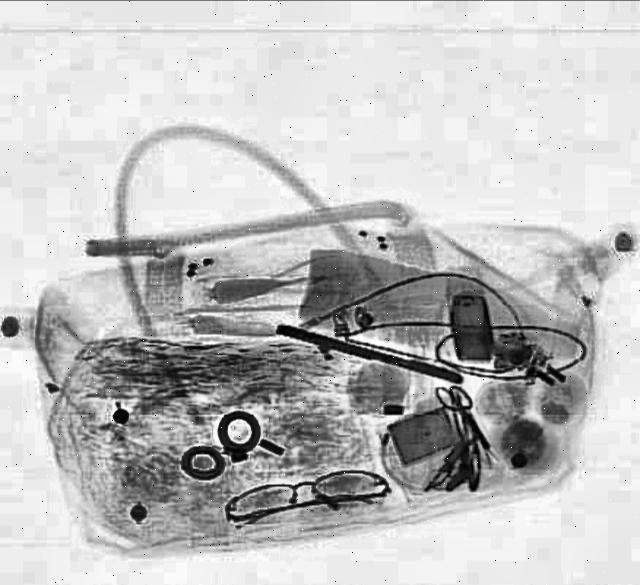Scissors: (429, 375, 503, 454)
